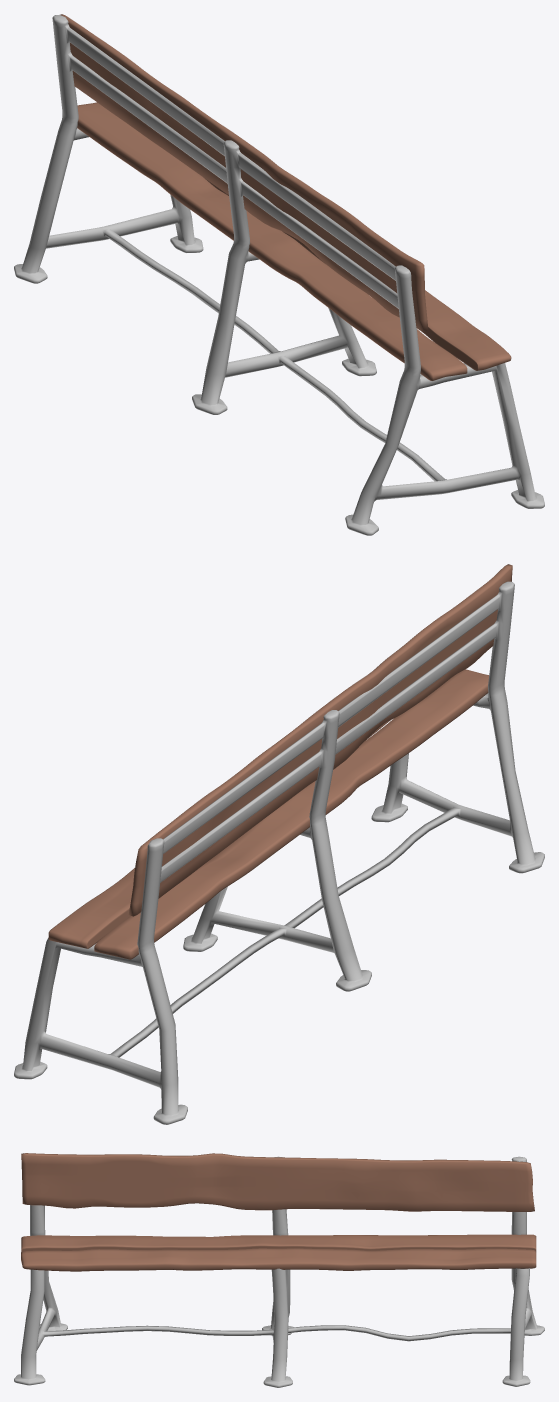
File: Banc.fbx
3 views of the same model, one above another, from view 1: azimuth 30°, elevation 25°; view 2: azimuth 150°, elevation 25°; view 3: azimuth 270°, elevation 25° (orthographic). The views are drawn at different scales.
Visible parts, largest first — view 1: Cube.004; view 2: Cube.004; view 3: Cube.004.
Boxes of the visible parts, box(x1,y1,x2,y2) form: Cube.004: box(14, 14, 544, 535); Cube.004: box(14, 564, 544, 1124); Cube.004: box(14, 1153, 544, 1387).
Bounding box in the file's own units: 59.14 × 81.46 × 207.
